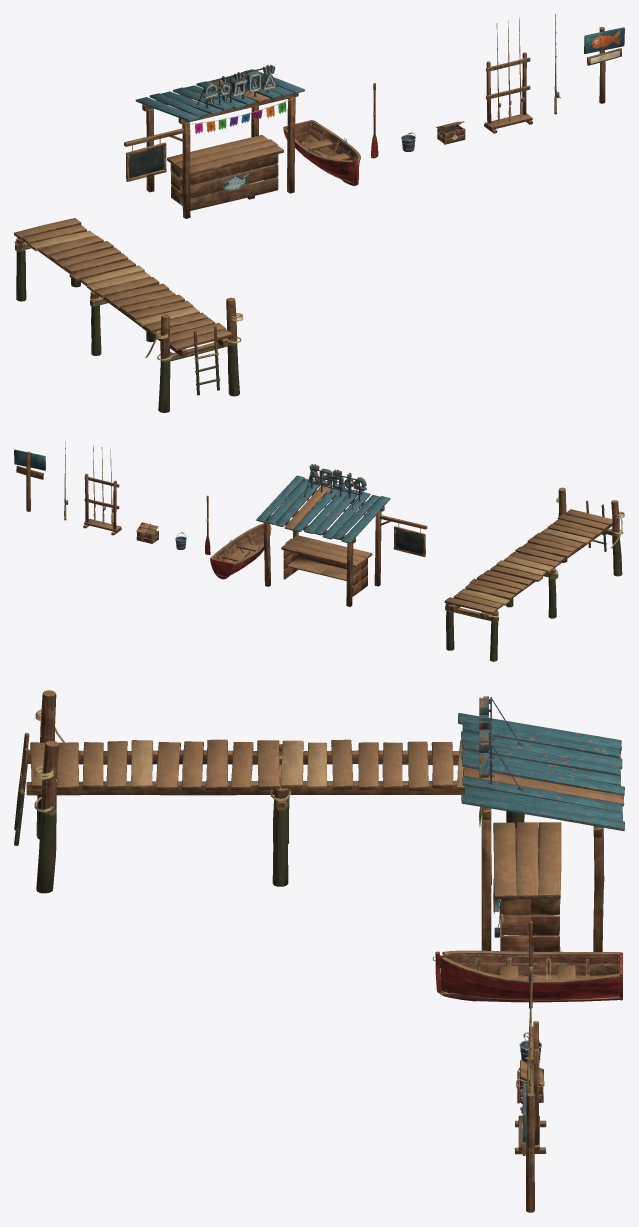
Rendered from props_laguna.glb.
The picture shows the model from 3 angles, top to bottom: view 1: azimuth 30°, elevation 25°; view 2: azimuth 150°, elevation 25°; view 3: azimuth 270°, elevation 25°; orthographic projection. The views are drawn at different scales.
Visible parts, largest first — view 1: Prop_PuestoArgus, Prop_Muelle, Prop_Lancha, Prop_RackCanas, Prop_LetreroPesca, Prop_PuestoArgus_Pizarra; view 2: Prop_PuestoArgus, Prop_Muelle, Prop_Lancha, Prop_RackCanas, Prop_LetreroPesca, Prop_PuestoArgus_Pizarra, Prop_CajaCarnada; view 3: Prop_Muelle, Prop_PuestoArgus, Prop_Lancha, Prop_RackCanas, Prop_LetreroPesca.
Part boxes in pixels (left/top/right/bottom): Prop_PuestoArgus: left=124, top=64, right=304, bottom=218; Prop_Muelle: left=14, top=218, right=243, bottom=412; Prop_Lancha: left=283, top=120, right=360, bottom=185; Prop_RackCanas: left=484, top=17, right=532, bottom=133; Prop_LetreroPesca: left=584, top=27, right=624, bottom=103; Prop_PuestoArgus_Pizarra: left=129, top=146, right=163, bottom=177; Prop_PuestoArgus: left=256, top=464, right=427, bottom=606; Prop_Muelle: left=444, top=487, right=624, bottom=661; Prop_Lancha: left=210, top=523, right=271, bottom=579; Prop_RackCanas: left=83, top=445, right=121, bottom=535; Prop_LetreroPesca: left=14, top=449, right=45, bottom=511; Prop_PuestoArgus_Pizarra: left=395, top=529, right=423, bottom=554; Prop_CajaCarnada: left=136, top=522, right=158, bottom=543; Prop_Muelle: left=14, top=690, right=524, bottom=893; Prop_PuestoArgus: left=458, top=696, right=624, bottom=951; Prop_Lancha: left=432, top=946, right=622, bottom=1002; Prop_RackCanas: left=514, top=967, right=546, bottom=1154; Prop_LetreroPesca: left=522, top=1083, right=535, bottom=1212.
Size of the model in its own units: 15.7 by 4.41 by 8.54.
1 material, 1 textured.
